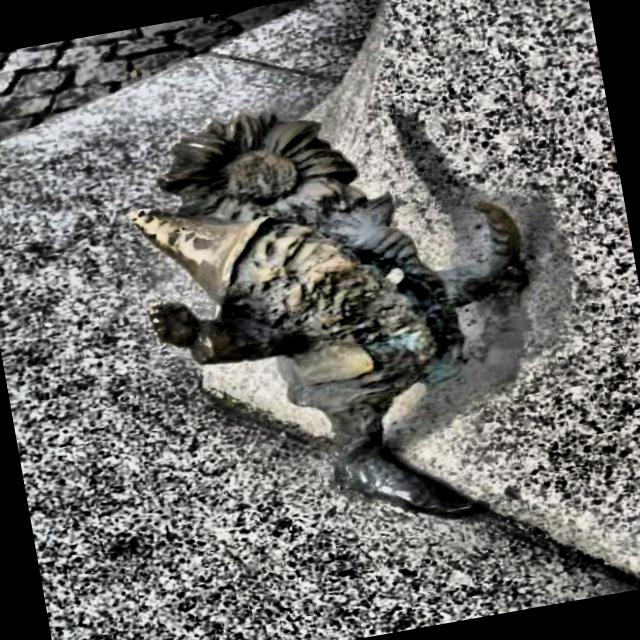Zyczliwek: (130, 112, 520, 516)
